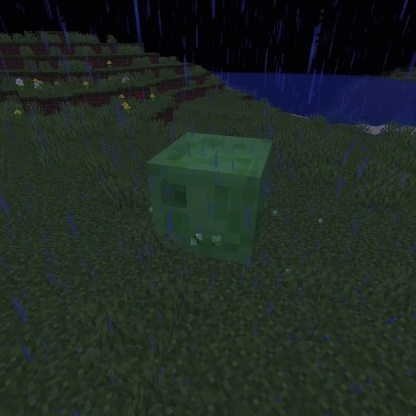slime: (140, 128, 277, 270)
